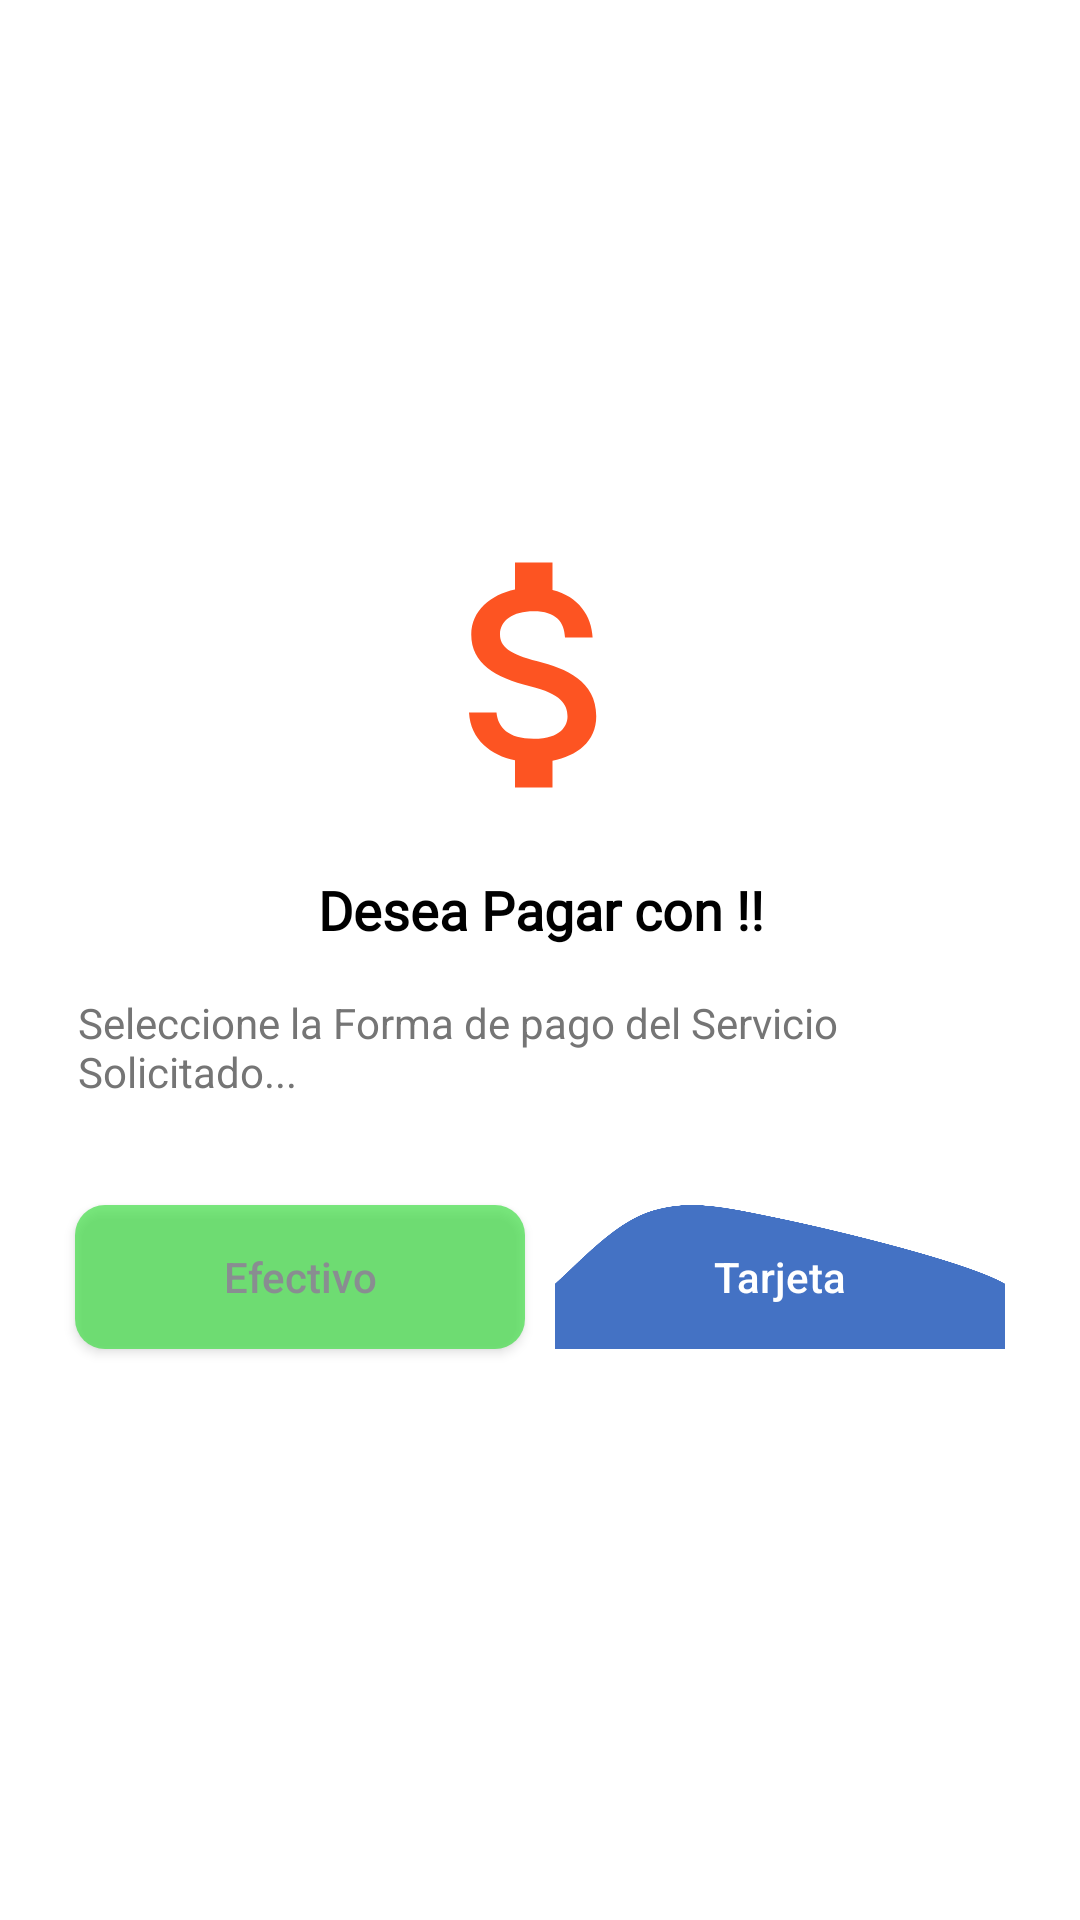

Icon click points for this 1080px x 1920px phone screenshot, format (x=x, y=y):
simbolo money: (x=533, y=675)
